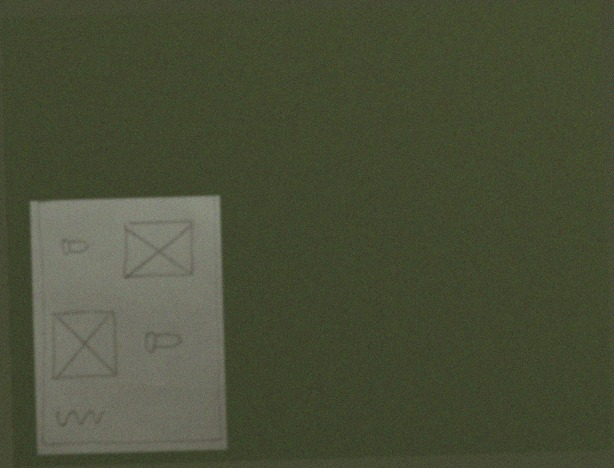image: (47, 305, 123, 383), (119, 216, 197, 284)
switch: (140, 327, 186, 357), (57, 235, 90, 257)
text: (52, 405, 106, 430)
